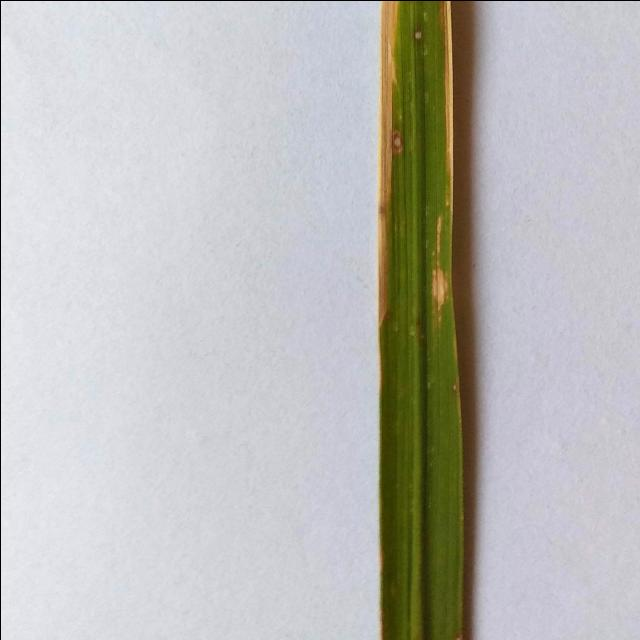Leaf blast: (330, 0, 566, 640)
